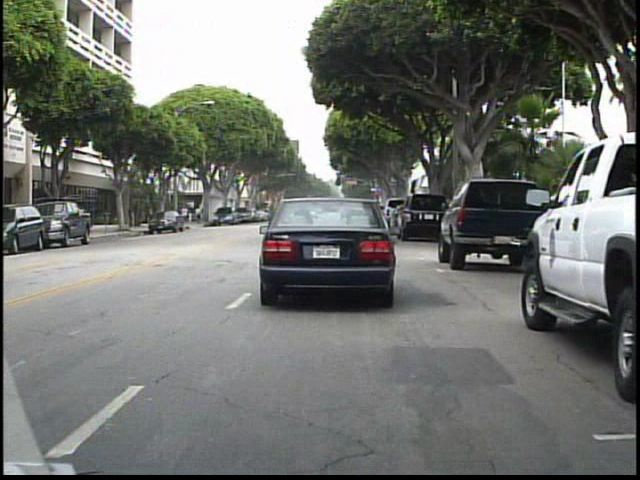person: (179, 202, 192, 226), (194, 202, 204, 226)
